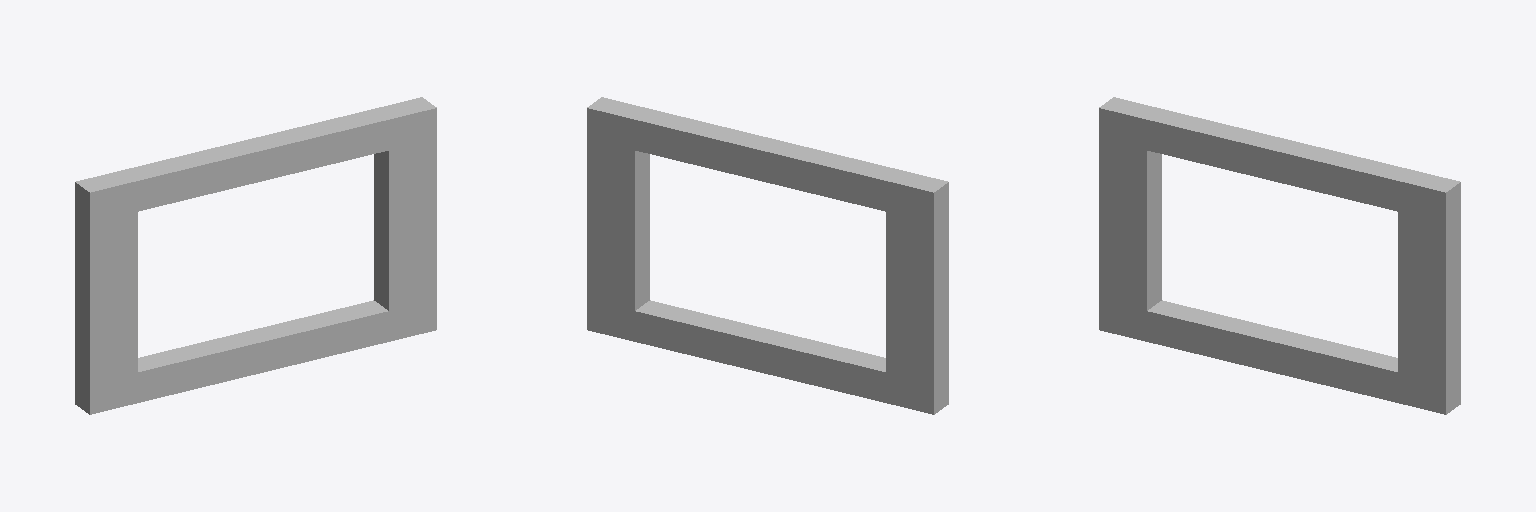
Rendered from Exit3.OBJ.
3 renders of one model, left to right at view 1: azimuth 30°, elevation 25°; view 2: azimuth 150°, elevation 25°; view 3: azimuth 330°, elevation 25°, orthographic.
Visible parts, largest first — view 1: Exit3_Cube.006; view 2: Exit3_Cube.006; view 3: Exit3_Cube.006.
Part boxes in pixels (left/top/right/bottom): Exit3_Cube.006: left=75, top=97, right=436, bottom=414; Exit3_Cube.006: left=587, top=97, right=948, bottom=414; Exit3_Cube.006: left=1099, top=97, right=1460, bottom=414.
Size of the model in its own units: 0.0593 by 0.0362 by 0.0044.